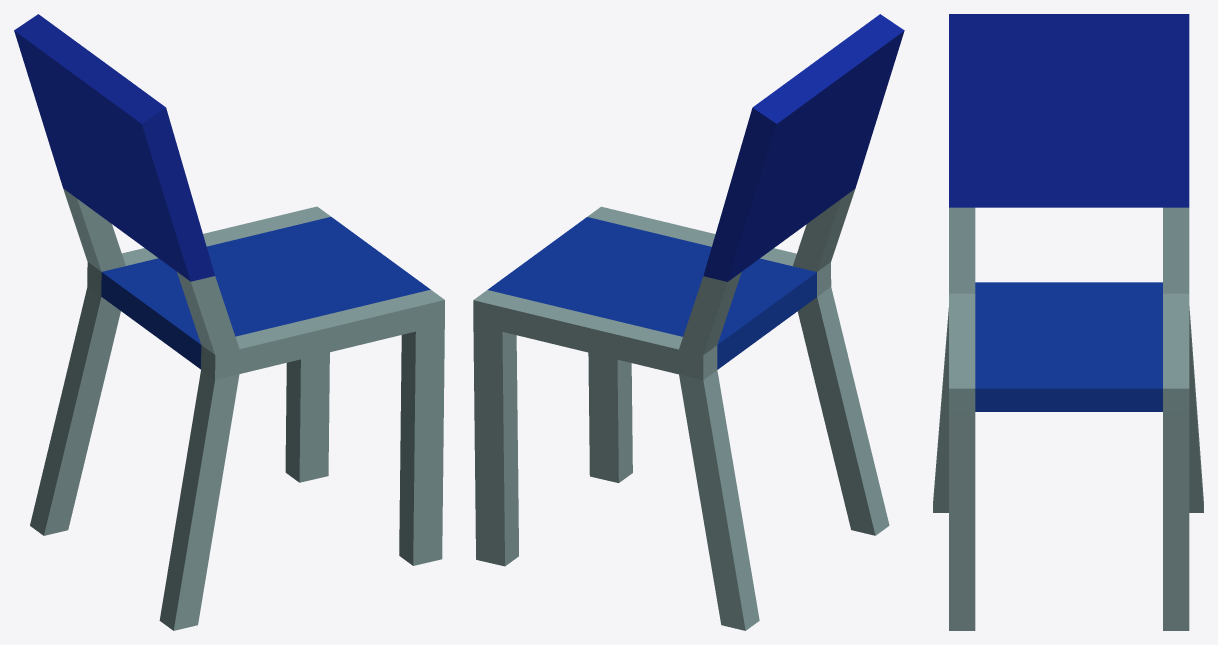
File: sillaChico.FBX
The picture shows the model from 3 angles, left to right: view 1: azimuth 30°, elevation 25°; view 2: azimuth 150°, elevation 25°; view 3: azimuth 270°, elevation 25°; orthographic projection. The views are drawn at different scales.
Visible parts, largest first — view 1: Cubo; view 2: Cubo; view 3: Cubo.
Boxes of the visible parts, x1,y1,x2,y2 form: Cubo: [14, 14, 444, 630]; Cubo: [473, 14, 904, 630]; Cubo: [933, 14, 1203, 630].
Size of the model in its own units: 18.13 by 29.67 by 14.9.
